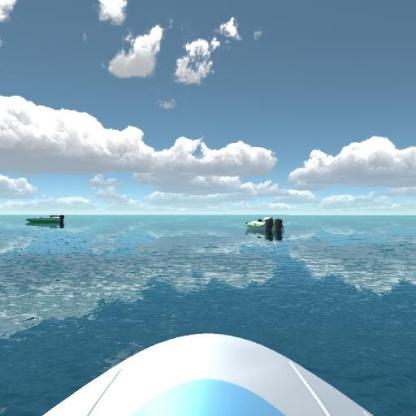usv0: (242, 210, 289, 240), (26, 207, 68, 229)
